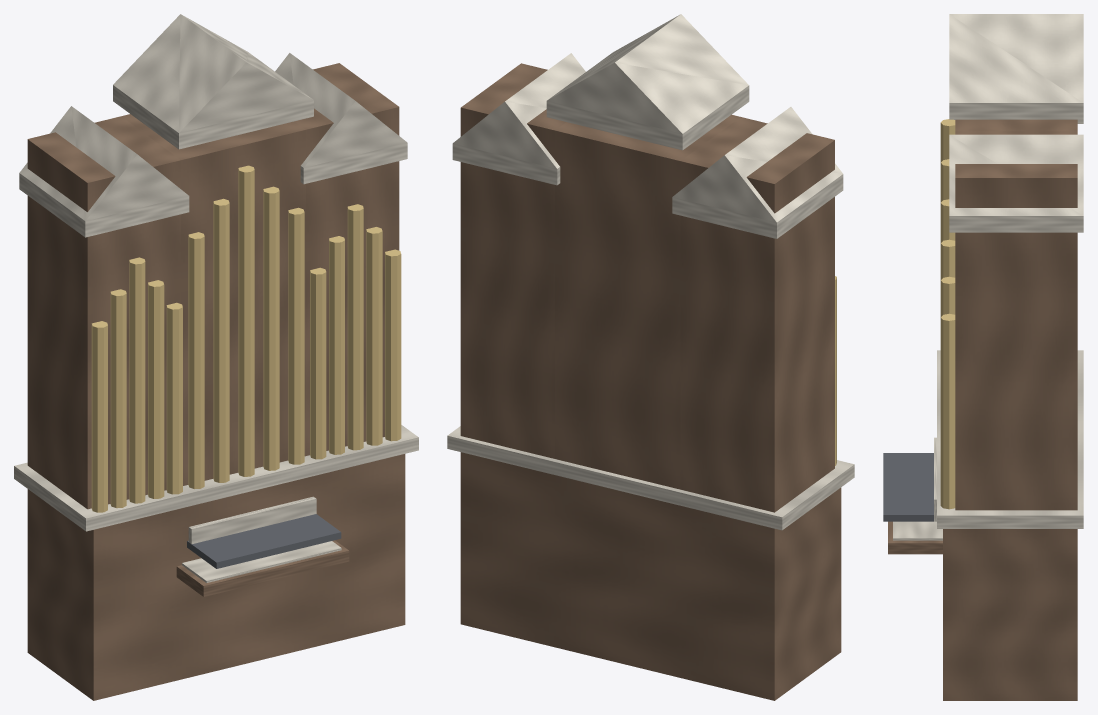
File: vampire-crypt-and-gothic-cathedral-organ-a9faa101__23001.glb
3 renders of one model, left to right at view 1: azimuth 30°, elevation 25°; view 2: azimuth 150°, elevation 25°; view 3: azimuth 270°, elevation 25°, orthographic.
Parts seen in each view (by area): view 1: organ; view 2: organ; view 3: organ.
Part boxes in pixels (box(x1,y1,x2,y2)): organ: box(14, 14, 418, 700); organ: box(447, 14, 854, 700); organ: box(883, 14, 1083, 700).
Size of the model in its own units: 3.2 by 5.5 by 1.64.
4 materials, 2 textured.
